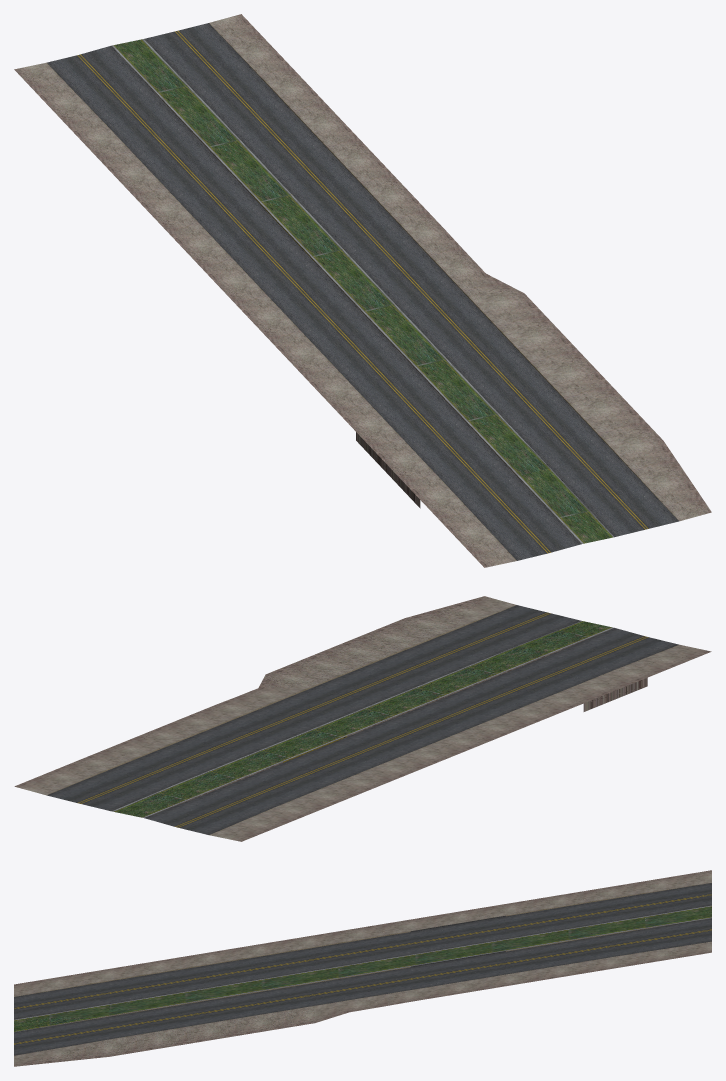
Rendered from lae2_roads54.obj.
3 renders of one model, top to bottom at view 1: azimuth 30°, elevation 25°; view 2: azimuth 150°, elevation 25°; view 3: azimuth 270°, elevation 25°, orthographic. The views are drawn at different scales.
Visible parts, largest first — view 1: Lae2_roads54; view 2: Lae2_roads54; view 3: Lae2_roads54.
Boxes of the visible parts, box(x1,y1,x2,y2) form: Lae2_roads54: box(14, 14, 711, 567); Lae2_roads54: box(14, 596, 711, 841); Lae2_roads54: box(14, 870, 711, 1066).
Size of the model in its own units: 37.41 by 22.81 by 125.
